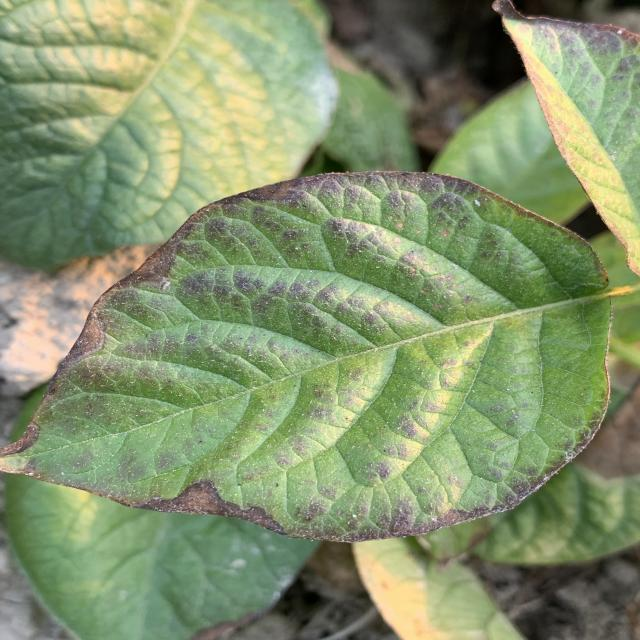lateblight: (50, 205, 215, 395), (220, 171, 522, 225), (133, 480, 293, 536), (275, 508, 493, 542), (0, 421, 40, 458), (343, 510, 367, 521)
